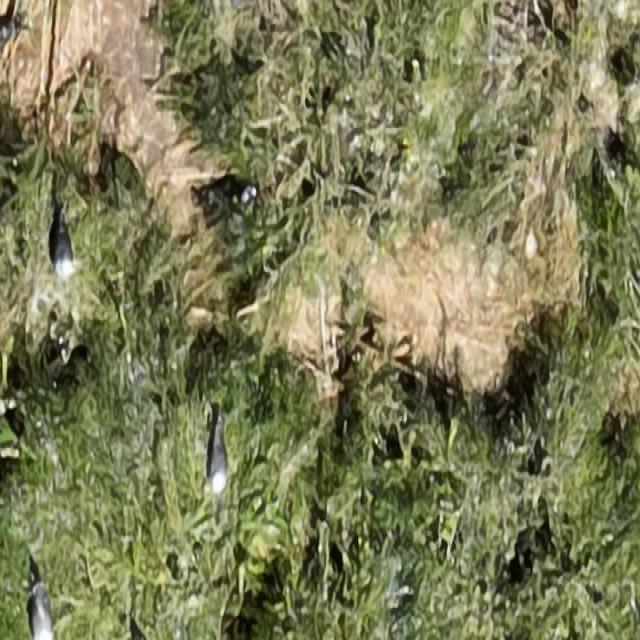umineko: (199, 169, 259, 216), (489, 220, 536, 260), (26, 579, 54, 640), (209, 418, 230, 493), (54, 227, 74, 278)
